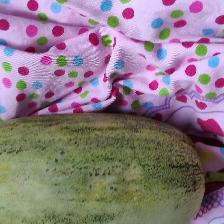gua: (13, 117, 196, 211)
